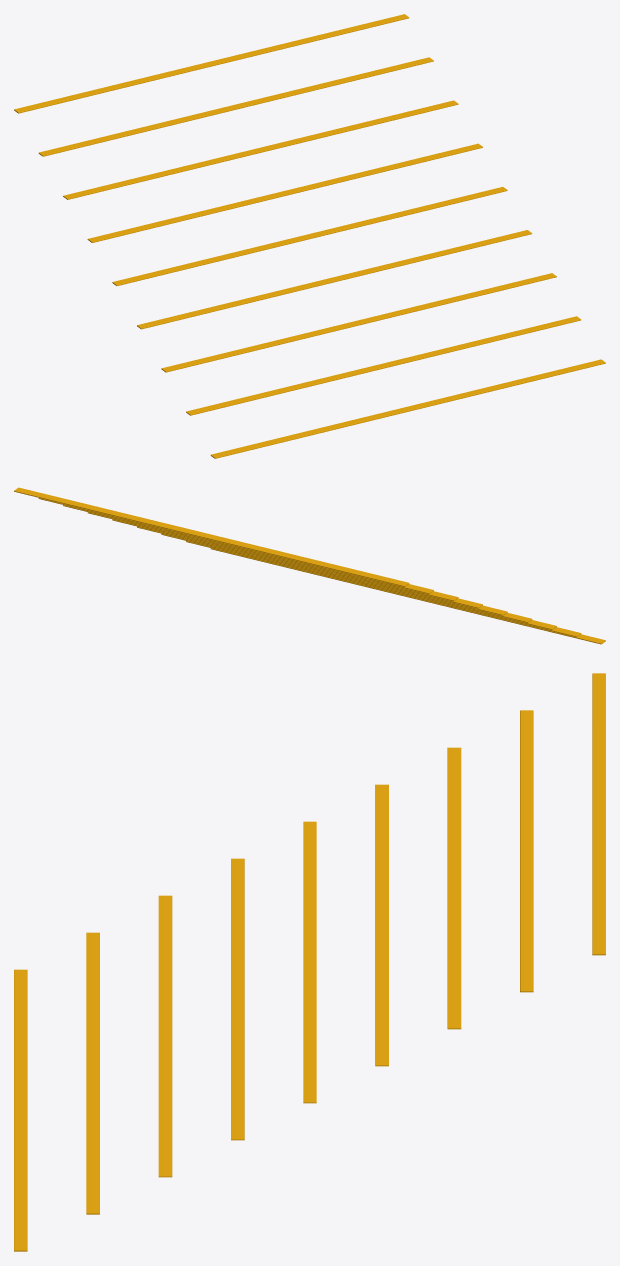
File: gteki_ik_stair_n9_r165_t292_w2698_nosing.glb
The picture shows the model from 3 angles, top to bottom: view 1: azimuth 30°, elevation 25°; view 2: azimuth 150°, elevation 25°; view 3: azimuth 270°, elevation 25°; orthographic projection. The views are drawn at different scales.
Parts seen in each view (by area): view 1: VIS_nosings; view 2: VIS_nosings; view 3: VIS_nosings.
Part boxes in pixels (left/top/right/bottom): VIS_nosings: left=14, top=14, right=605, bottom=458; VIS_nosings: left=14, top=487, right=605, bottom=644; VIS_nosings: left=14, top=673, right=605, bottom=1251.
Size of the model in its own units: 2.68 by 1.33 by 2.39.
